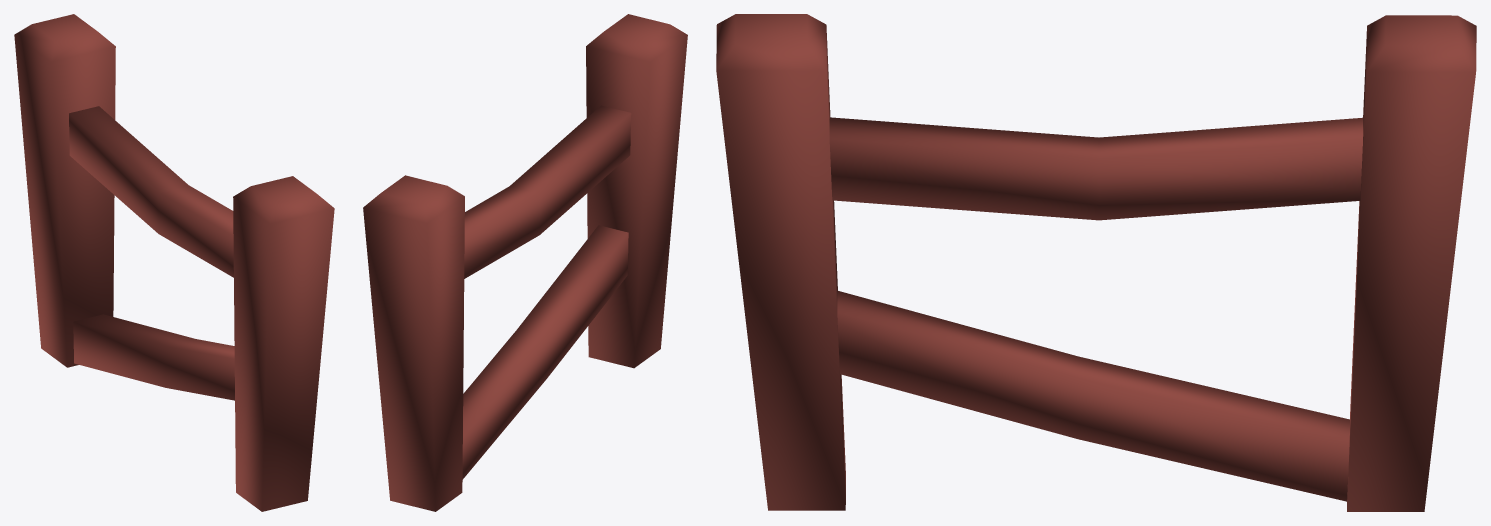
File: Fence_02.fbx
3 renders of one model, left to right at view 1: azimuth 30°, elevation 25°; view 2: azimuth 150°, elevation 25°; view 3: azimuth 270°, elevation 25°, orthographic. The views are drawn at different scales.
Visible parts, largest first — view 1: Fence_02; view 2: Fence_02; view 3: Fence_02.
Boxes of the visible parts, x1=… form: Fence_02: x1=14, y1=14, x2=334, y2=511; Fence_02: x1=363, y1=14, x2=687, y2=511; Fence_02: x1=716, y1=14, x2=1476, y2=511.
Bounding box in the file's own units: 25.92 × 117 × 174.
